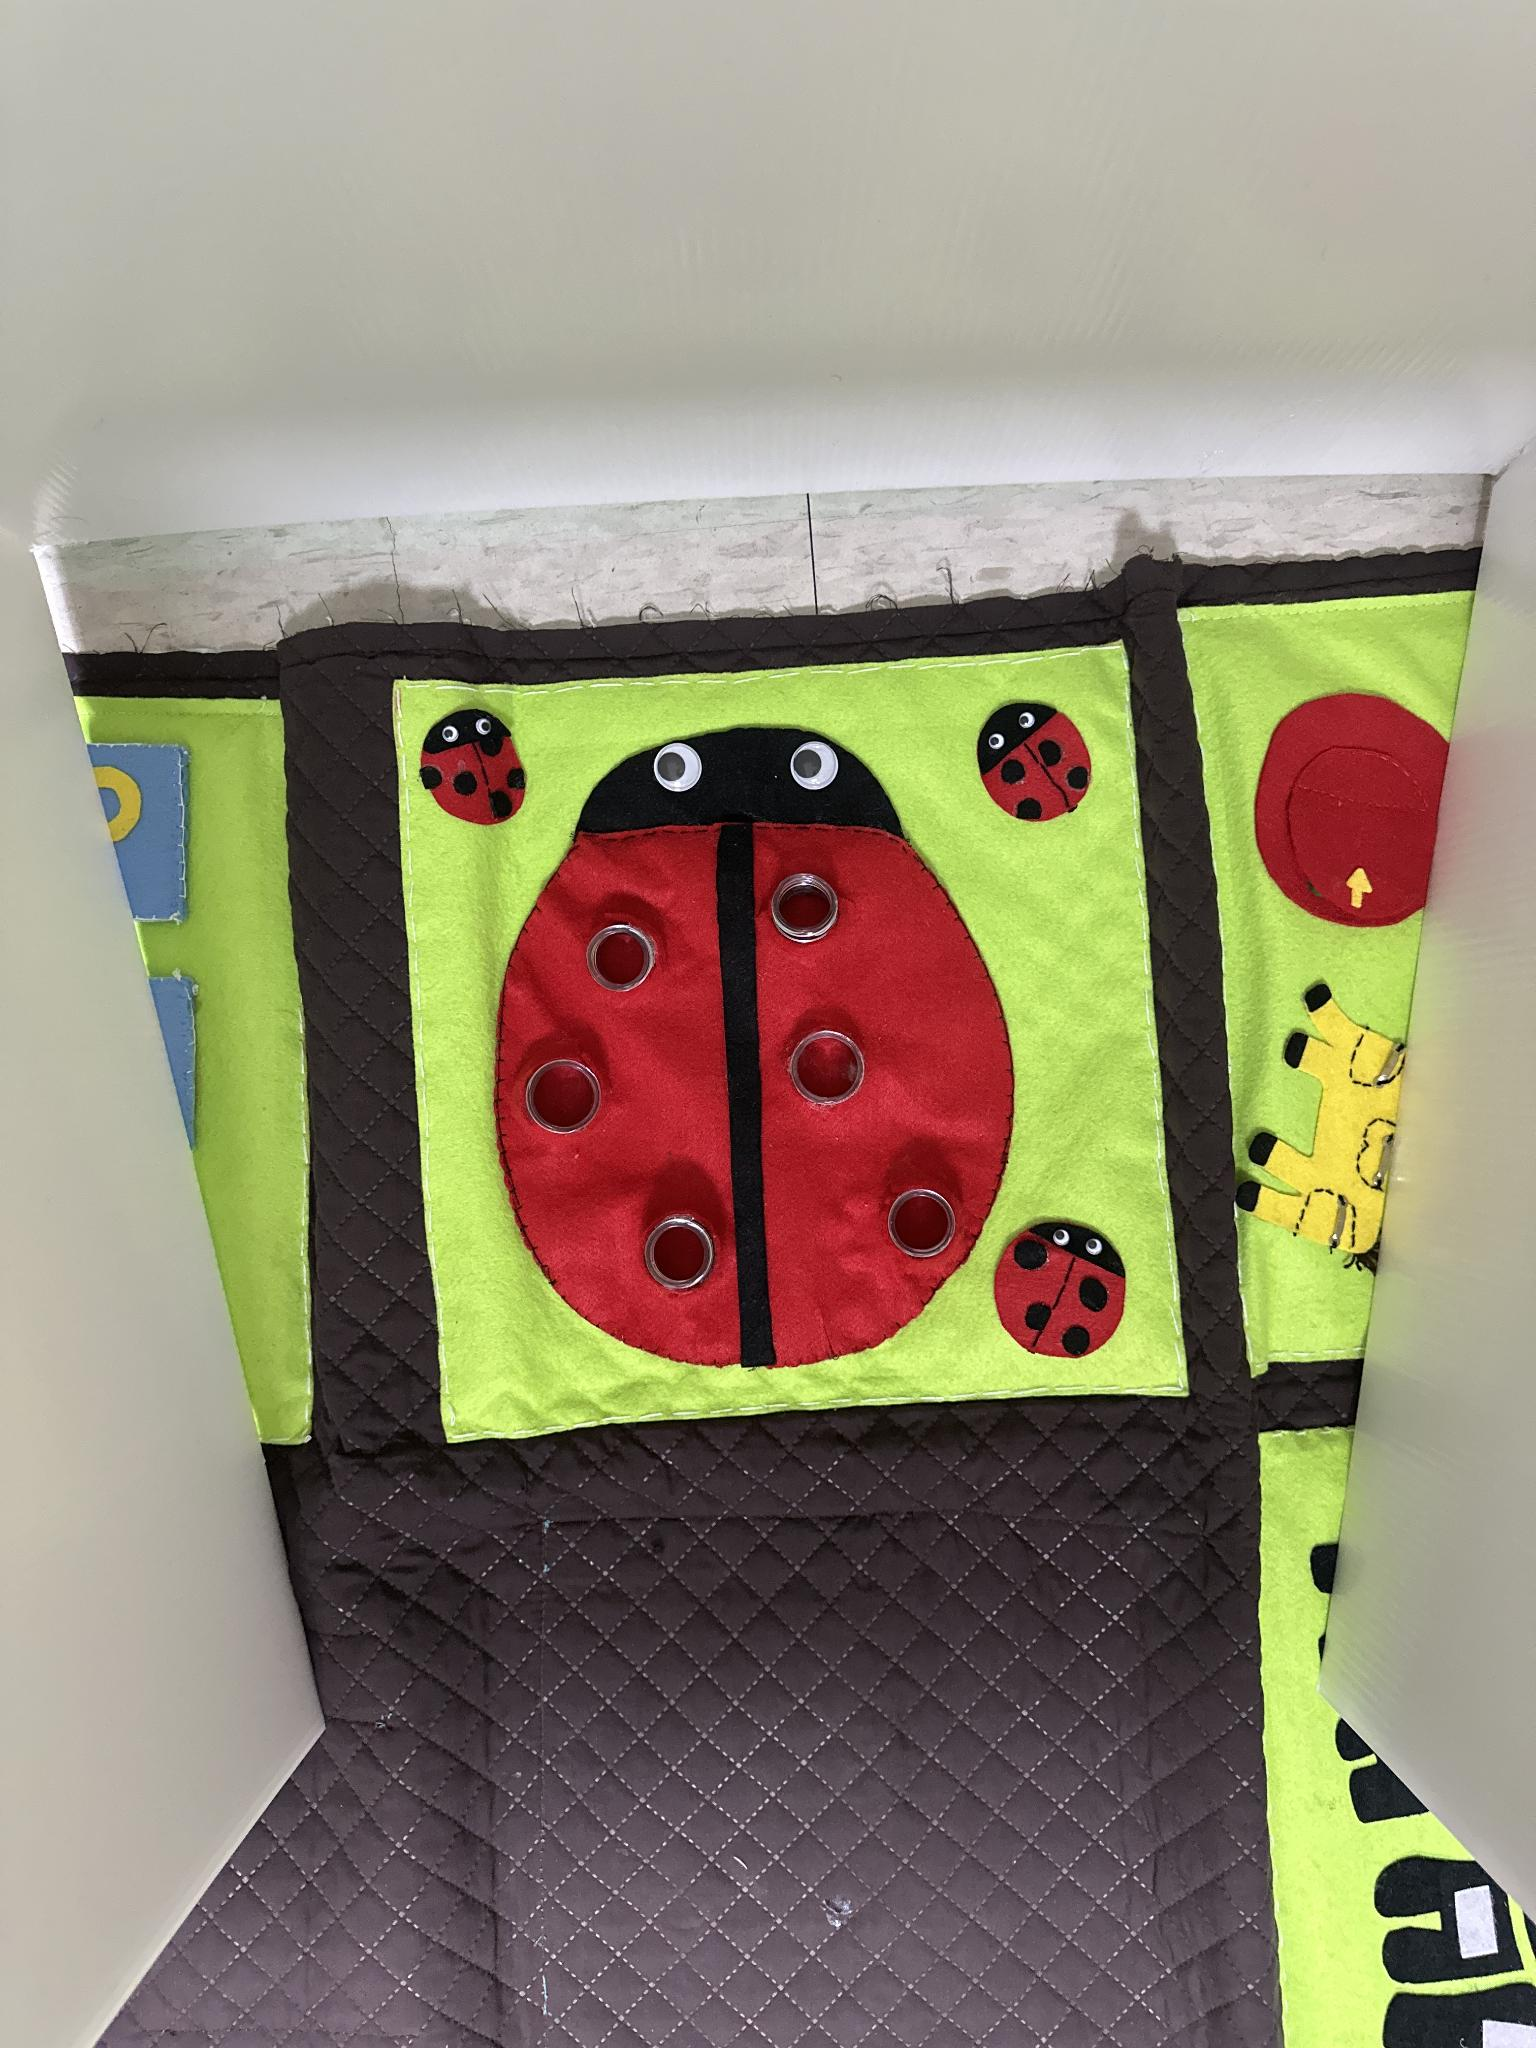hole: (528, 1058, 620, 1135), (636, 1205, 718, 1288), (803, 1032, 870, 1114), (894, 1179, 958, 1256), (594, 930, 665, 987), (787, 876, 844, 930)
ladybug_case: (497, 732, 1015, 1369)
